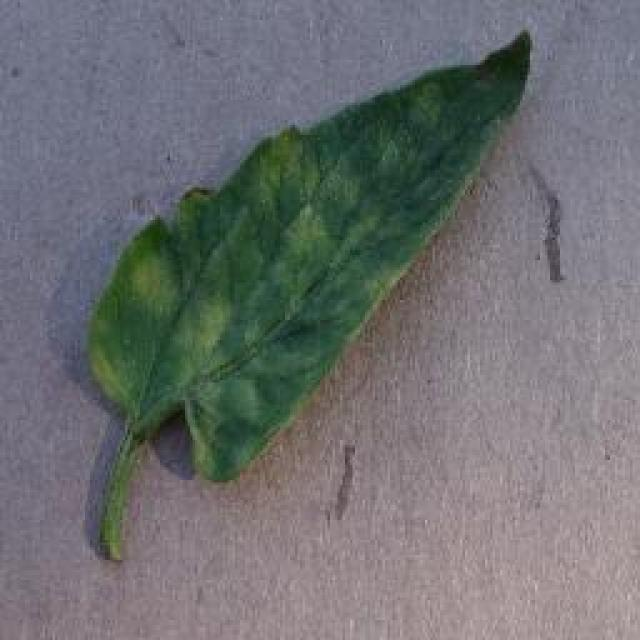Tomato mold leaf: (84, 26, 536, 486)
